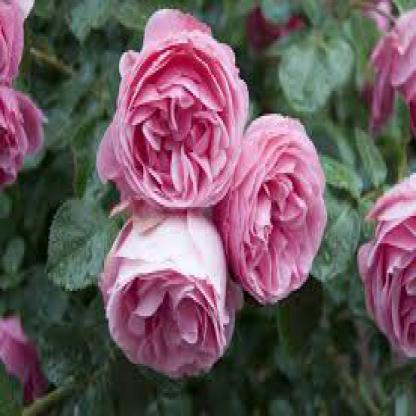Rose-Mawar: (104, 6, 333, 390), (357, 8, 416, 376), (1, 1, 48, 188)
